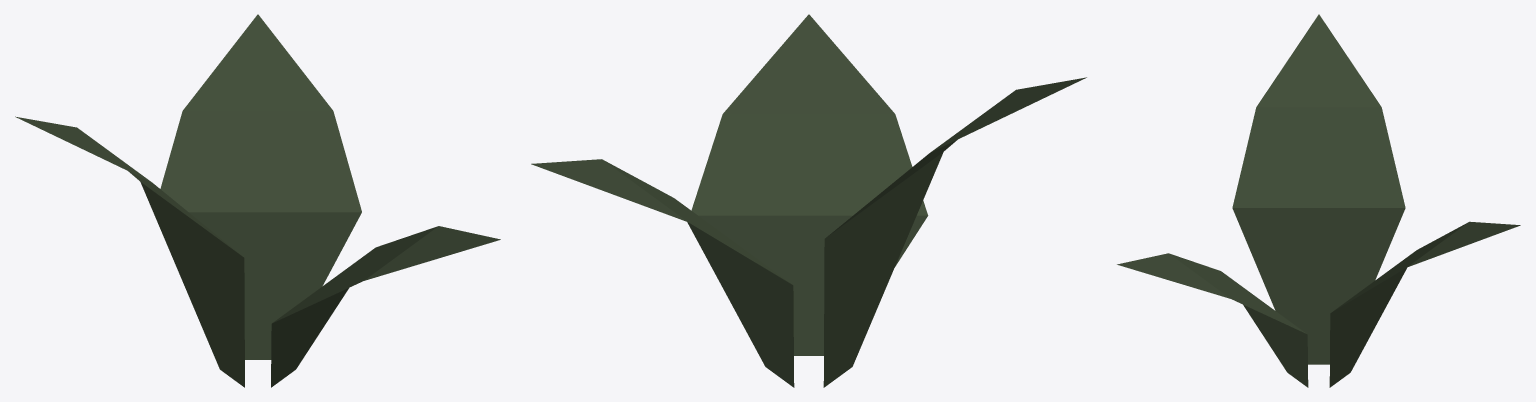
Rendered from busch_dreieck.glb.
3 renders of one model, left to right at view 1: azimuth 30°, elevation 25°; view 2: azimuth 150°, elevation 25°; view 3: azimuth 270°, elevation 25°, orthographic. The views are drawn at different scales.
Visible parts, largest first — view 1: busch_dreieck; view 2: busch_dreieck; view 3: busch_dreieck.
Part boxes in pixels (box(x1,y1,x2,y2)): busch_dreieck: box(15, 14, 500, 387); busch_dreieck: box(531, 14, 1086, 387); busch_dreieck: box(1117, 14, 1520, 387).
Size of the model in its own units: 1.48 by 1.2 by 1.68.
